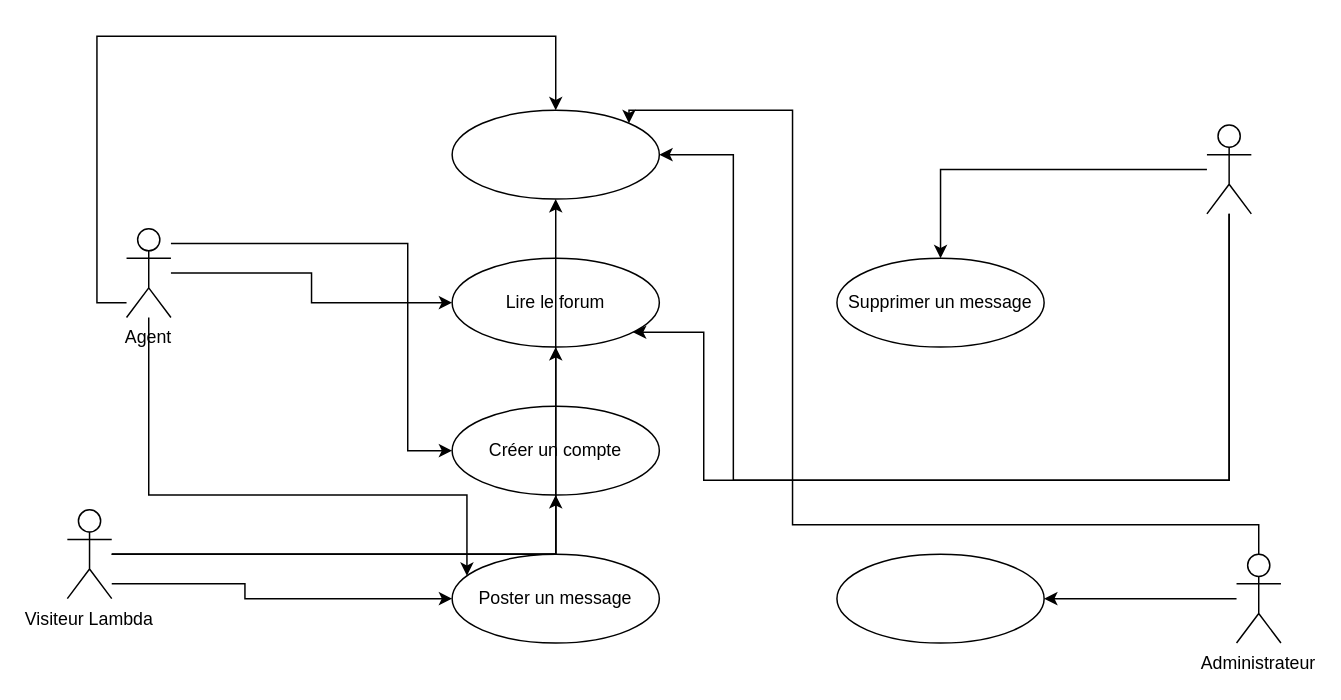
The diagram is 1341 pixels wide and 700 high, and some of its shapes have lost their labels. Here are the shapes that lost their labels. From the top down, the centre of each, then its label:
point 555,154: Consulter informations
point 1228,169: Modérateur
point 939,598: Gérer comptes utilisateurs
